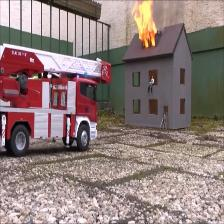fire: (133, 2, 159, 47)
